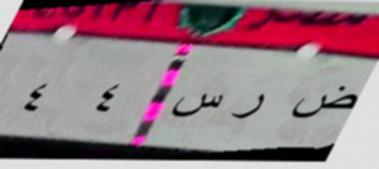4: (14, 78, 54, 118), (92, 74, 123, 124)
daad: (288, 80, 360, 126)
raa: (231, 90, 270, 127)
seen: (170, 87, 229, 127)
